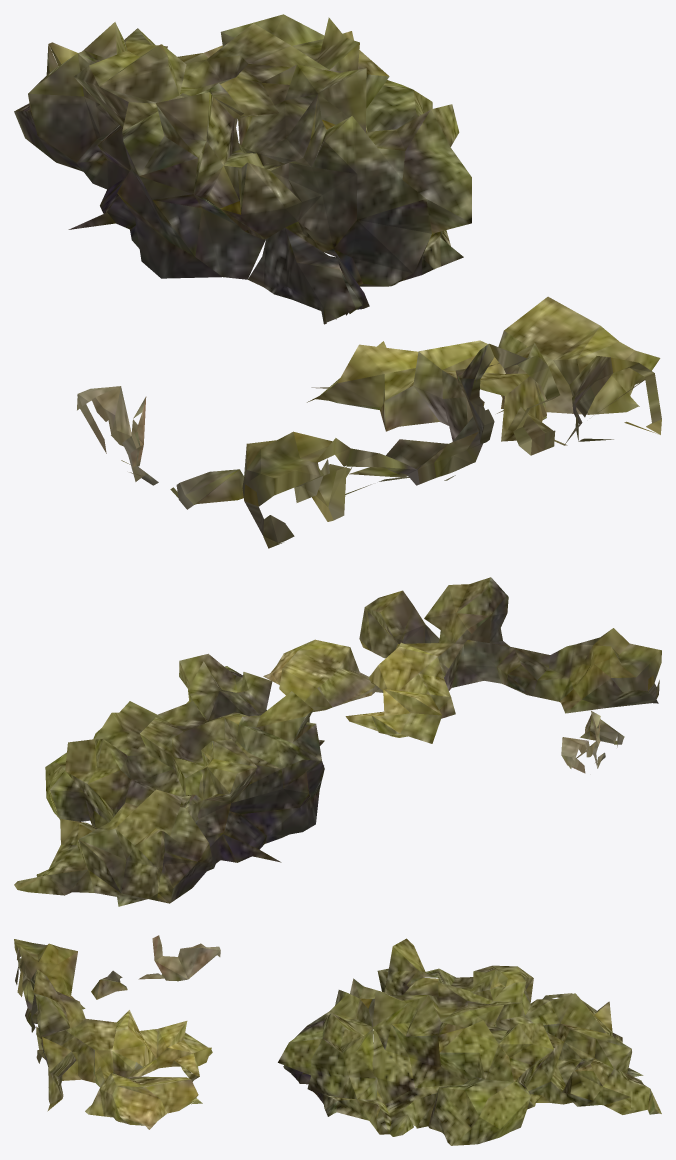
The picture shows the model from 3 angles, top to bottom: view 1: azimuth 30°, elevation 25°; view 2: azimuth 150°, elevation 25°; view 3: azimuth 270°, elevation 25°; orthographic projection. The views are drawn at different scales.
Parts seen in each view (by area): view 1: Mesh_0; view 2: Mesh_0; view 3: Mesh_0.
Boxes of the visible parts, left/top/right/bottom form: Mesh_0: left=14, top=14, right=661, bottom=548; Mesh_0: left=14, top=577, right=661, bottom=906; Mesh_0: left=14, top=935, right=661, bottom=1145.
Bounding box in the file's own units: 24.09 × 7.61 × 38.13.
Materials: 1 (1 with a texture image).
